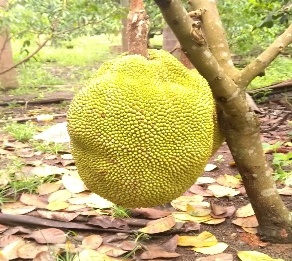Mit: (61, 52, 217, 209)
